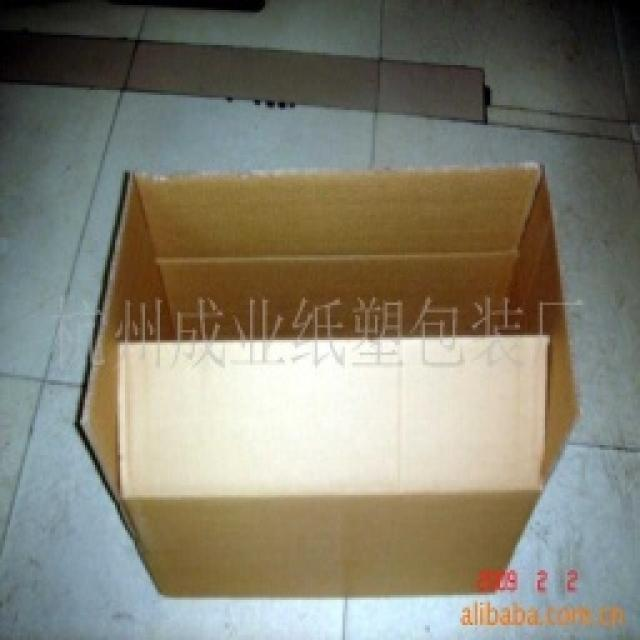box: (78, 154, 574, 610)
